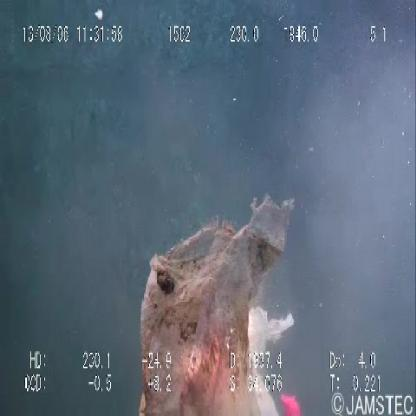Rác: (124, 178, 322, 416)
